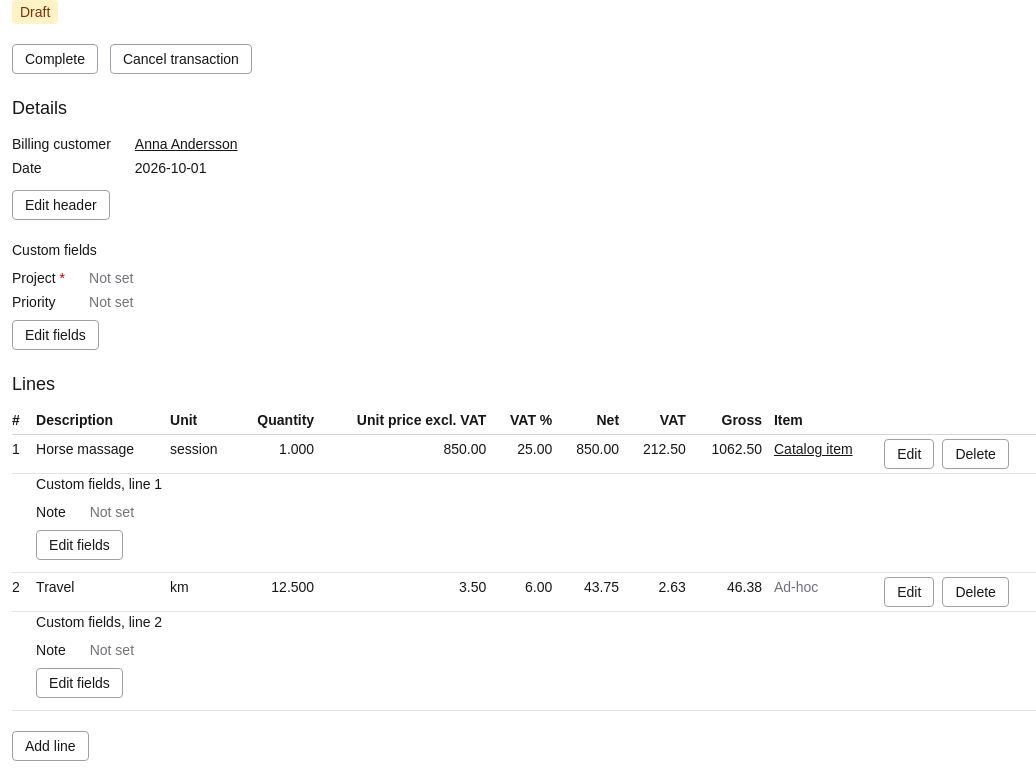
Test case: saving values › saves a line's fields to that line's own values endpoint, with NO Sales version, then refreshes the page
The image size is (1036, 768).
Click the button with test id "edit-fields" below "Custom fields, line 1": (79, 545) [36, 530, 123, 560]
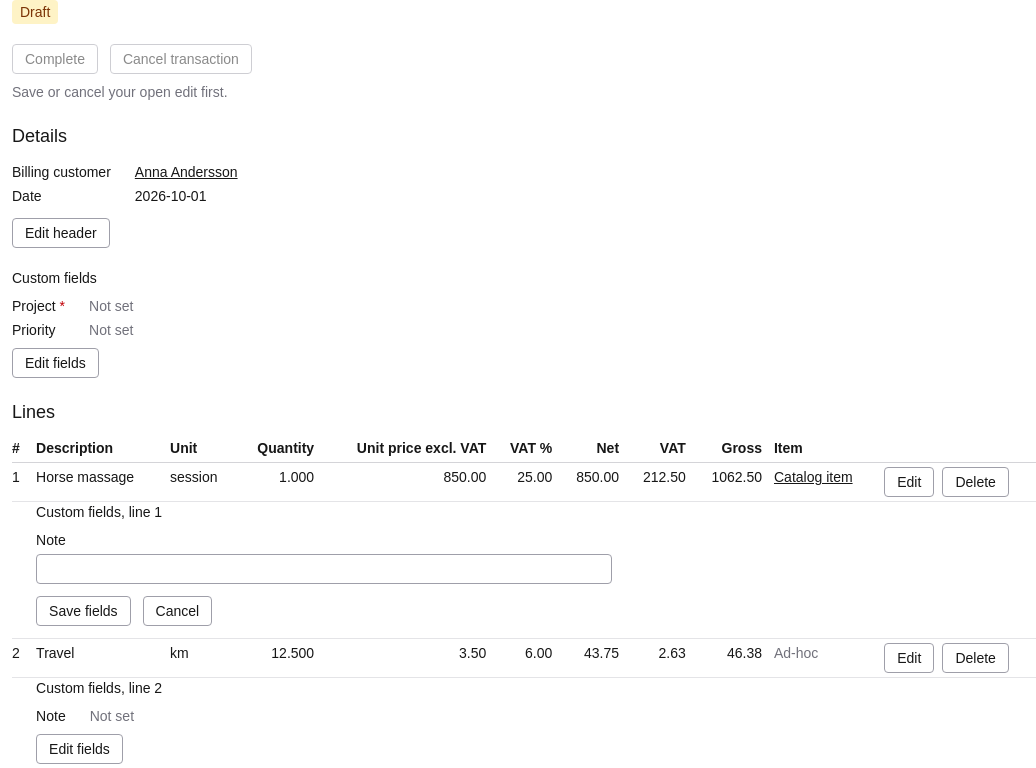
In the field labelled "Note": (324, 569) [36, 554, 612, 584], type "hello"
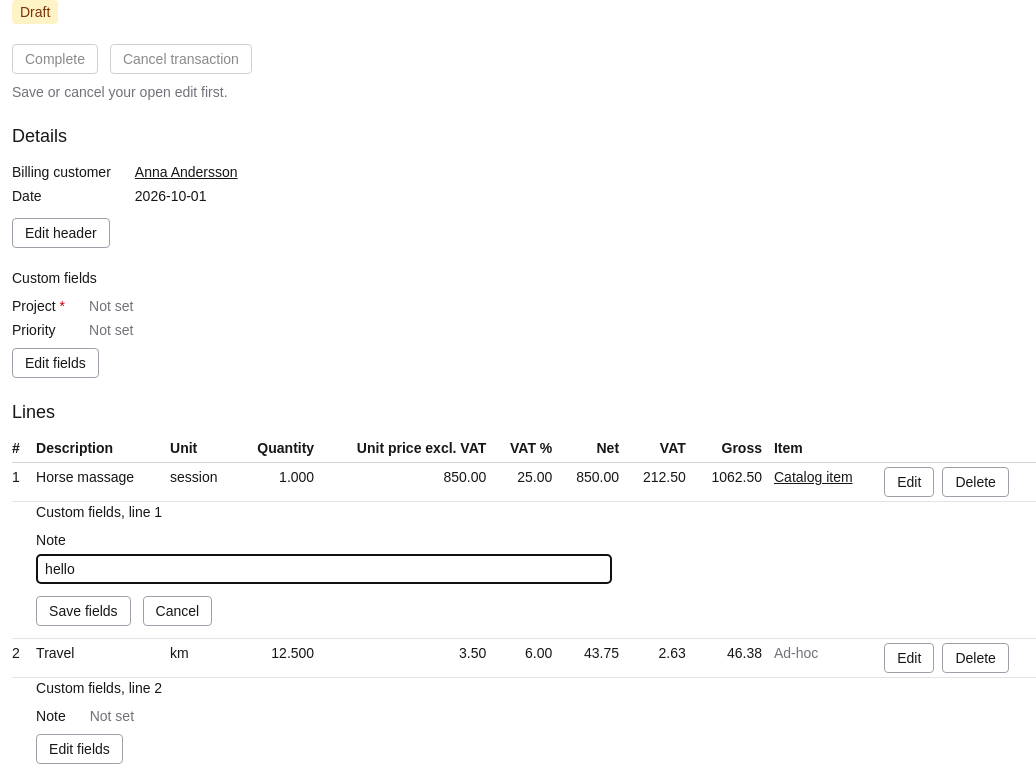
Click the button with test id "save-fields": (83, 611) [36, 596, 131, 626]
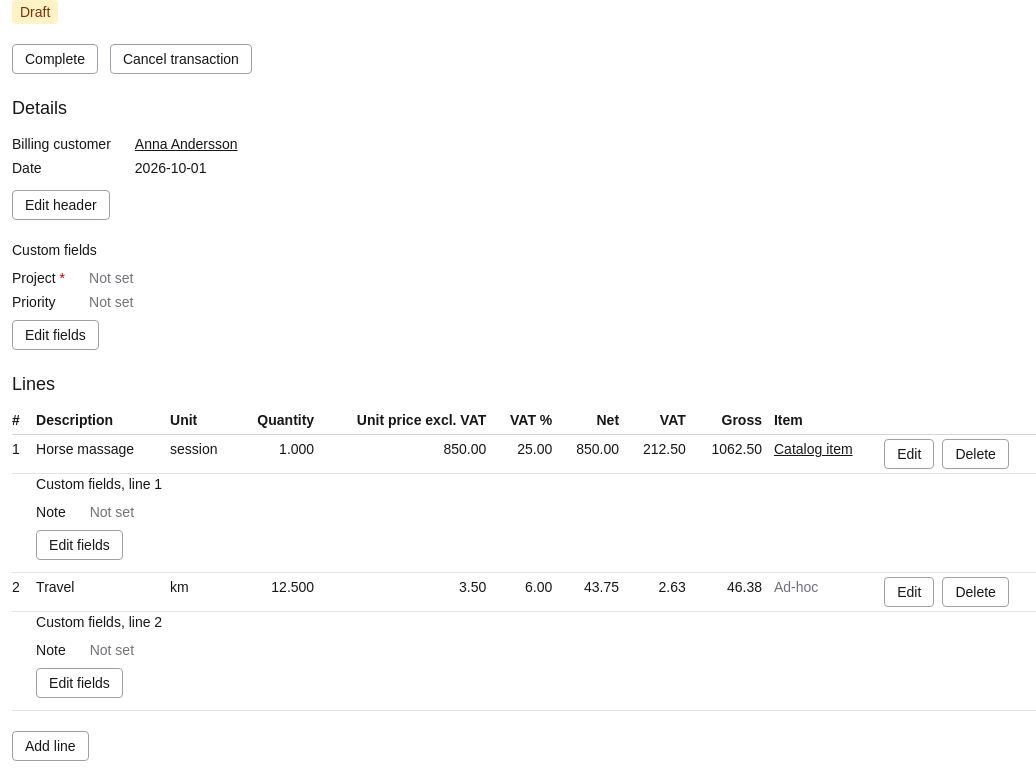
Expected: the form with test id "custom-fields-form" is gone
